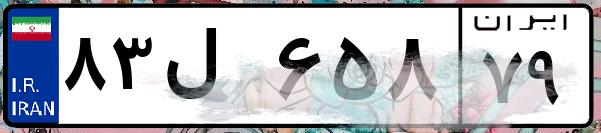3: (110, 28, 158, 98)
5: (330, 28, 385, 110)
6: (270, 28, 330, 110)
7: (475, 38, 525, 113)
8: (385, 28, 445, 110), (57, 26, 110, 100)
9: (525, 38, 570, 115)
ل: (158, 20, 270, 120)
